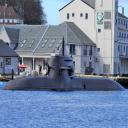submarine: (1, 36, 128, 90)
